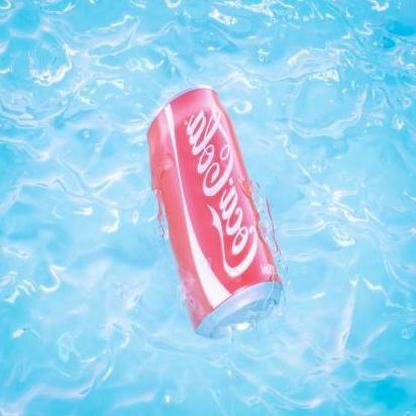can: (144, 84, 289, 341)
